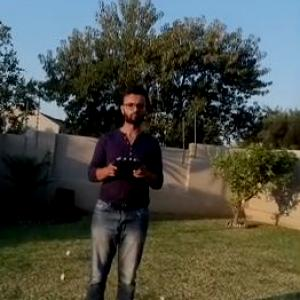follow: (79, 74, 168, 299)
